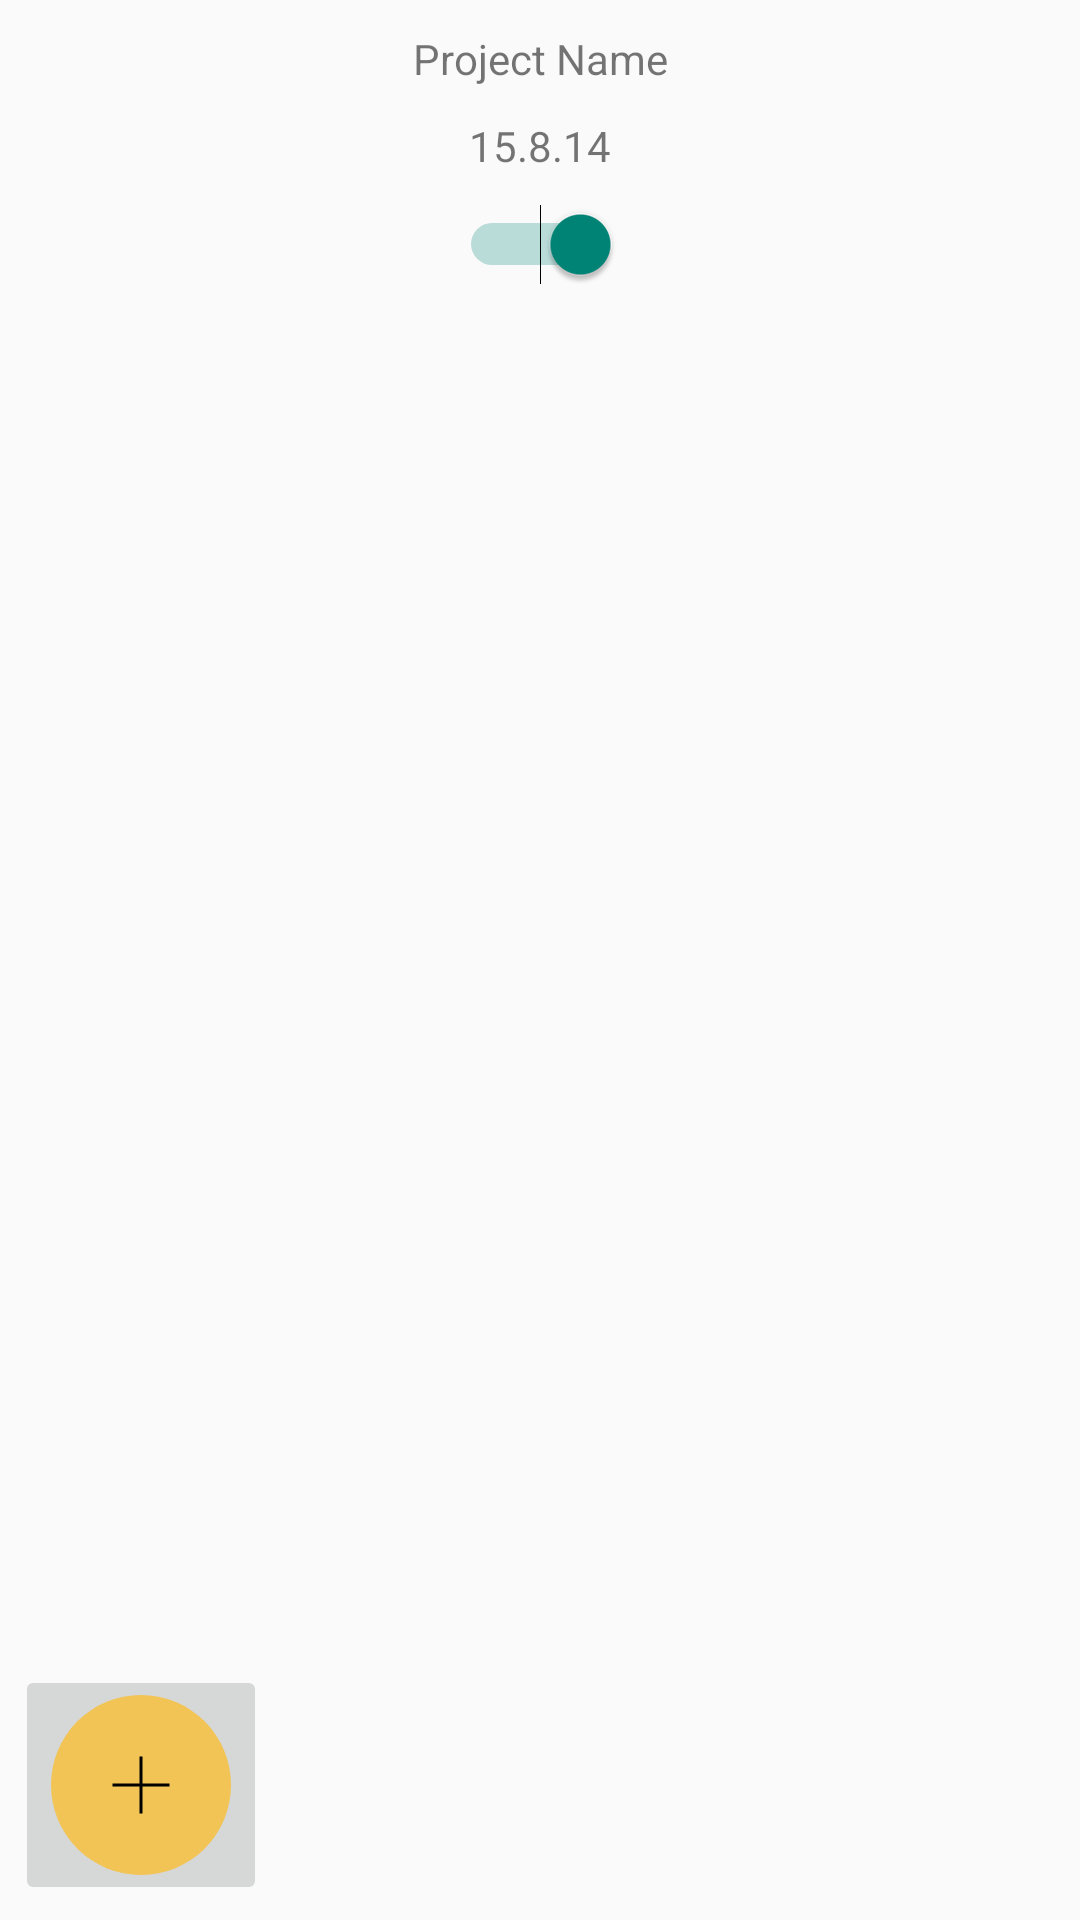

Where icons sit on this 1080px×1920px app screen, as {"left": x1, "top": y1, "right": x2, "bottom": y2}:
fab: {"left": 27, "top": 1683, "right": 255, "bottom": 1887}
